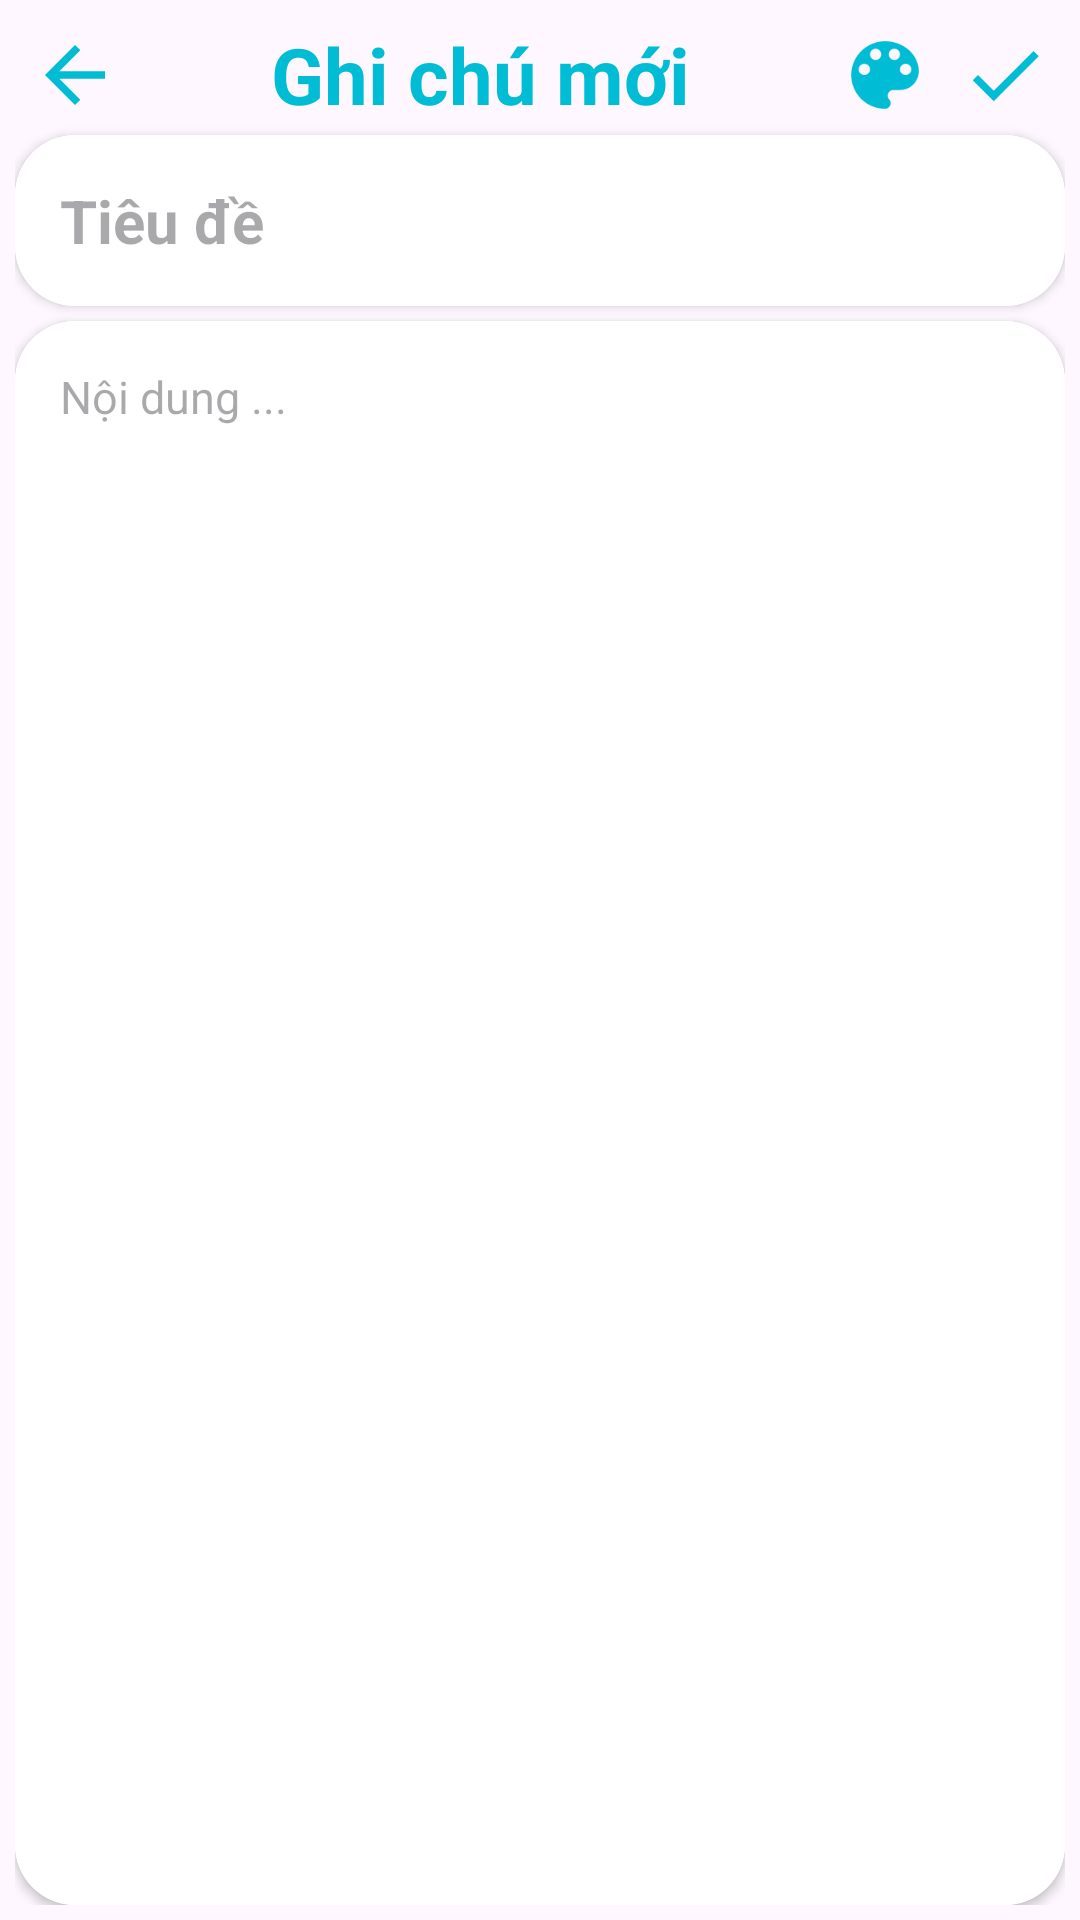

Point at icon controls on the screen. Image size 1080w x 1920h, points as (x=x, y=y).
arrow back: (x=75, y=75)
done: (x=1006, y=76)
